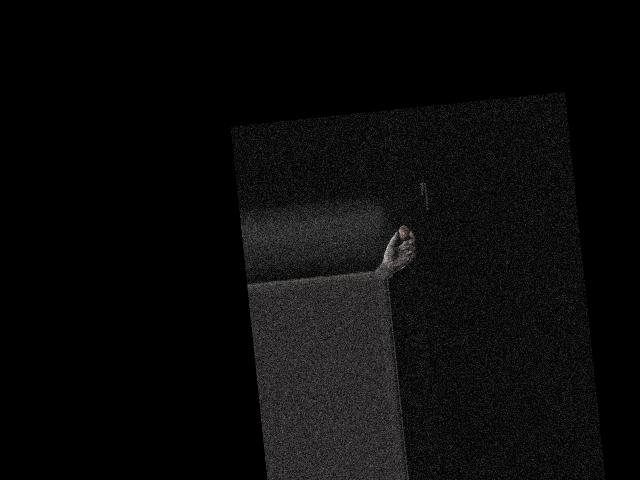egg: (397, 225, 410, 242)
